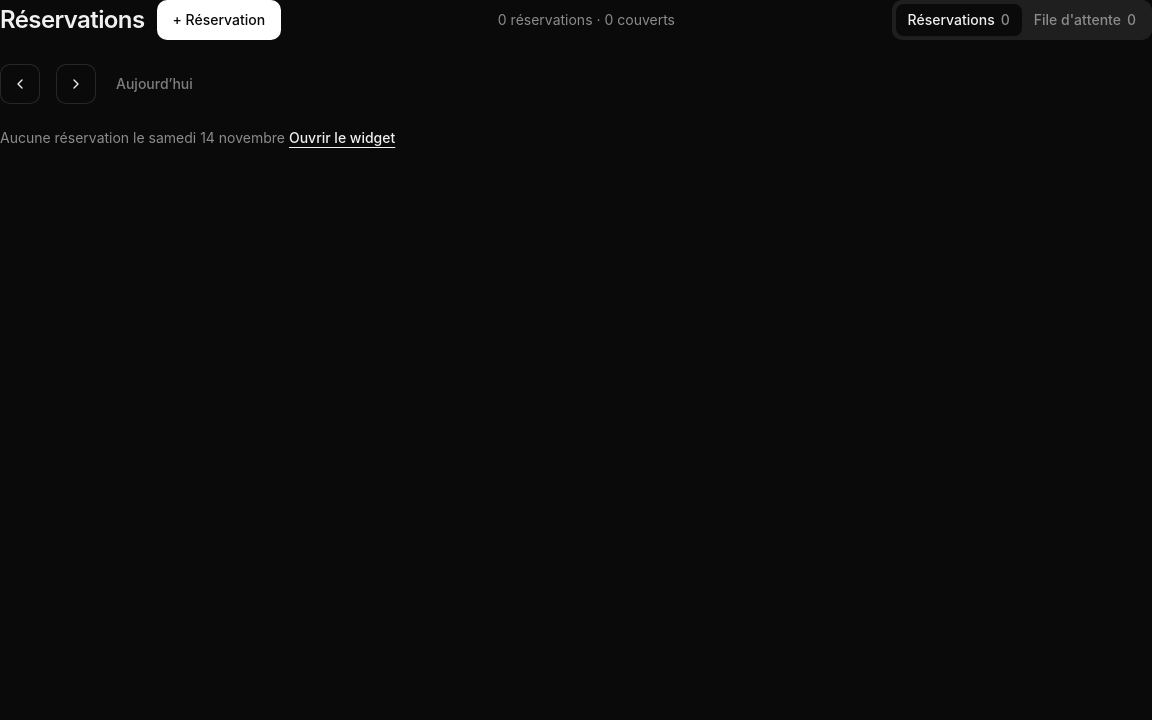
Test: ReservationsPage › création par l’équipe › propose de réessayer si les créneaux sont indisponibles
The width and height of the screenshot is (1152, 720).
Click the button "+ Réservation" at (219, 20), box x1=156 y1=0 x2=281 y2=40
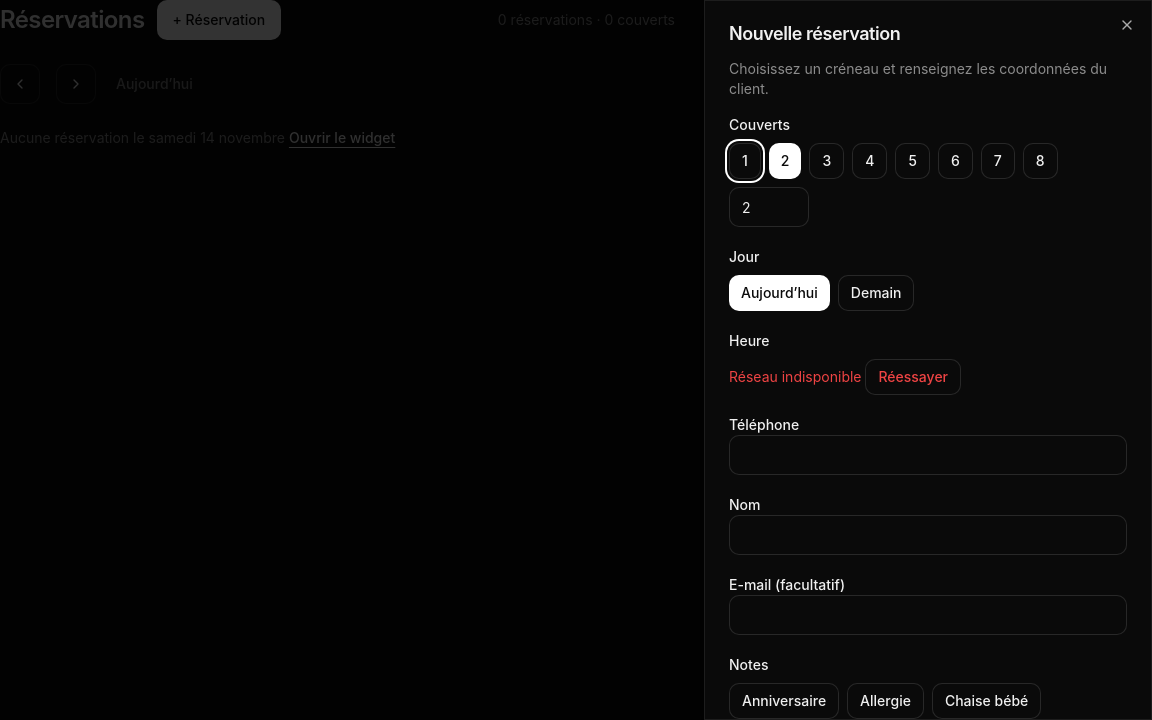
Check: the message shows "Réseau indisponible", box x1=729 y1=368 x2=862 y2=385
Check: the button "Réessayer" is shown, box x1=866 y1=359 x2=961 y2=395
